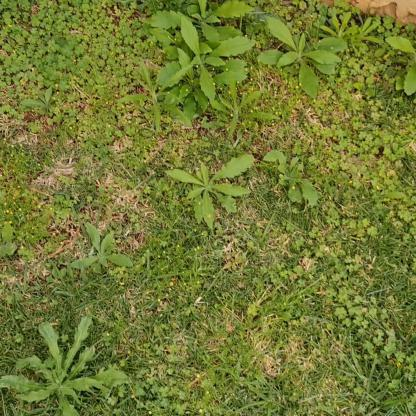Weeds: (0, 314, 131, 415), (158, 16, 257, 122), (257, 13, 345, 103), (165, 152, 255, 230), (121, 60, 198, 135), (145, 0, 253, 48), (203, 81, 279, 145), (70, 221, 133, 277), (264, 147, 319, 207), (388, 34, 415, 97), (20, 86, 59, 119), (321, 13, 356, 42), (352, 14, 381, 48)
